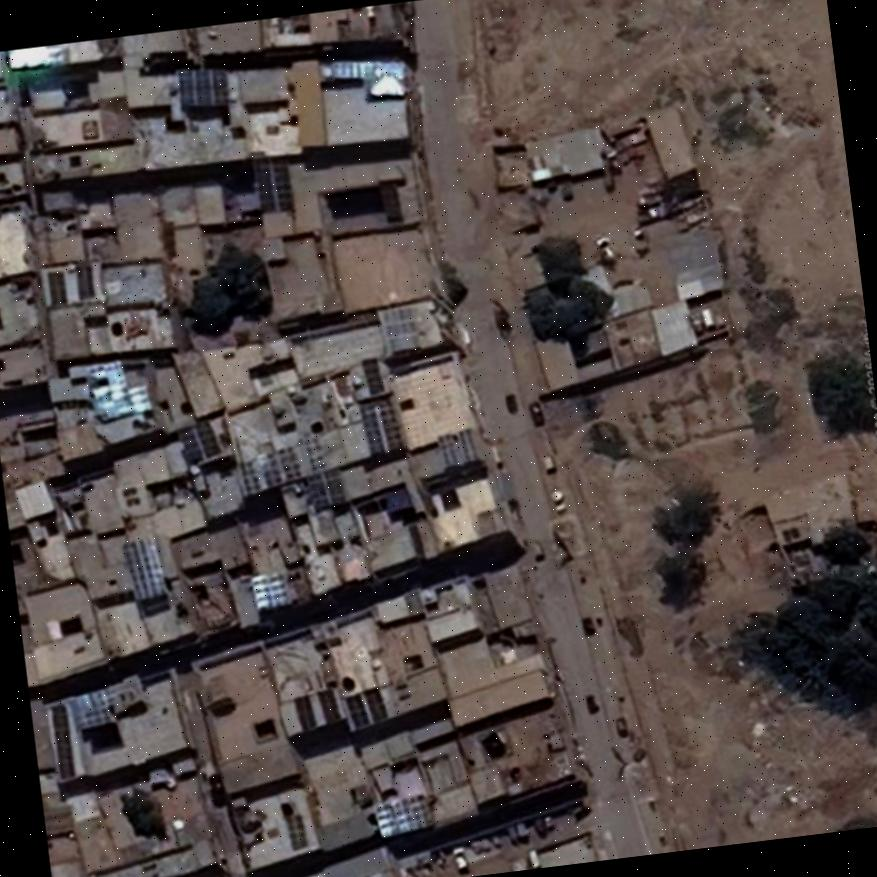Solarpanel: (357, 397, 402, 456), (250, 154, 294, 214), (120, 540, 158, 601), (375, 796, 425, 837), (177, 68, 227, 106), (68, 689, 111, 733), (177, 419, 221, 462), (49, 706, 73, 778), (308, 467, 344, 512), (251, 571, 287, 606), (292, 692, 316, 732), (359, 357, 382, 395), (361, 687, 385, 721), (345, 692, 367, 729), (318, 690, 341, 722)
